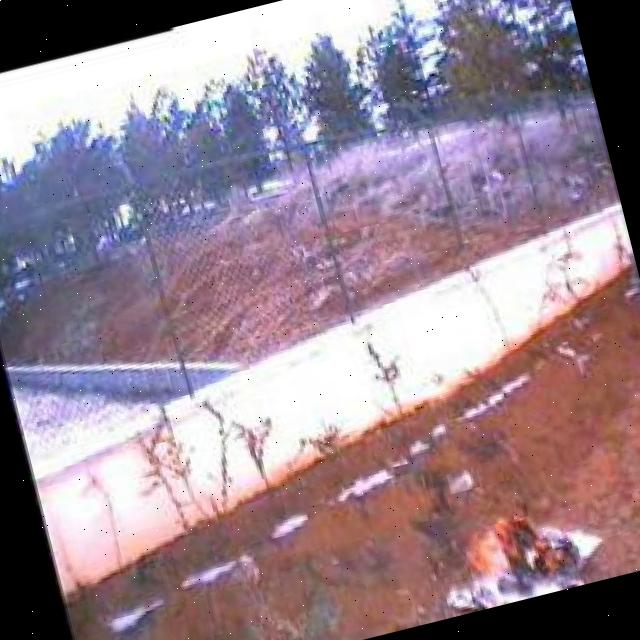fire: (454, 498, 594, 608)
